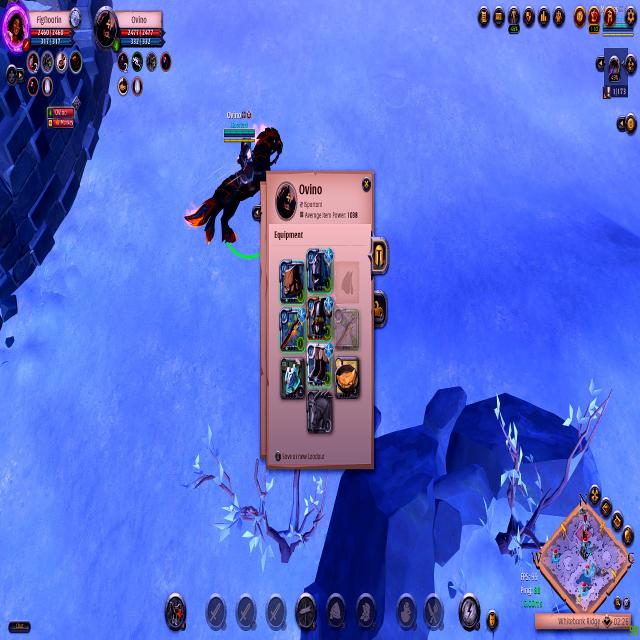red: (184, 102, 288, 272), (597, 0, 640, 42)
